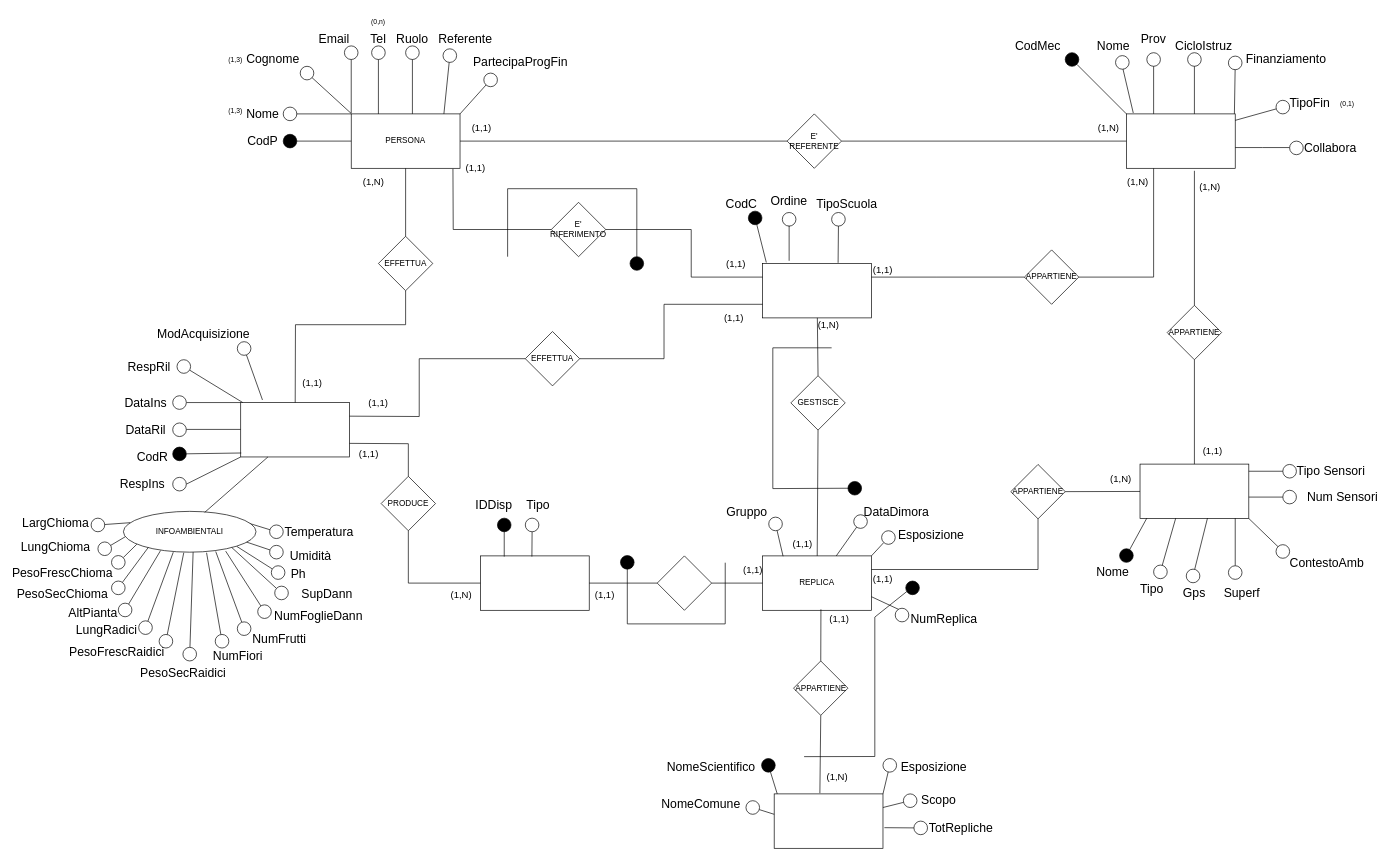
The diagram is 1393 pixels wide and 860 high, and some of its shapes have lost their labels. The centre of each missing label's shape, as x and y in pixels:
"APPLICATO A" goes at (x=684, y=582).
"CLASSE" goes at (x=816, y=290).
"DISPOSITIVO" goes at (x=534, y=582).
"ORTO" goes at (x=1194, y=490).
"RILEVAZIONE" goes at (x=295, y=429).
"SCUOLA" goes at (x=1180, y=140).
"SPECIE" goes at (x=828, y=820).
